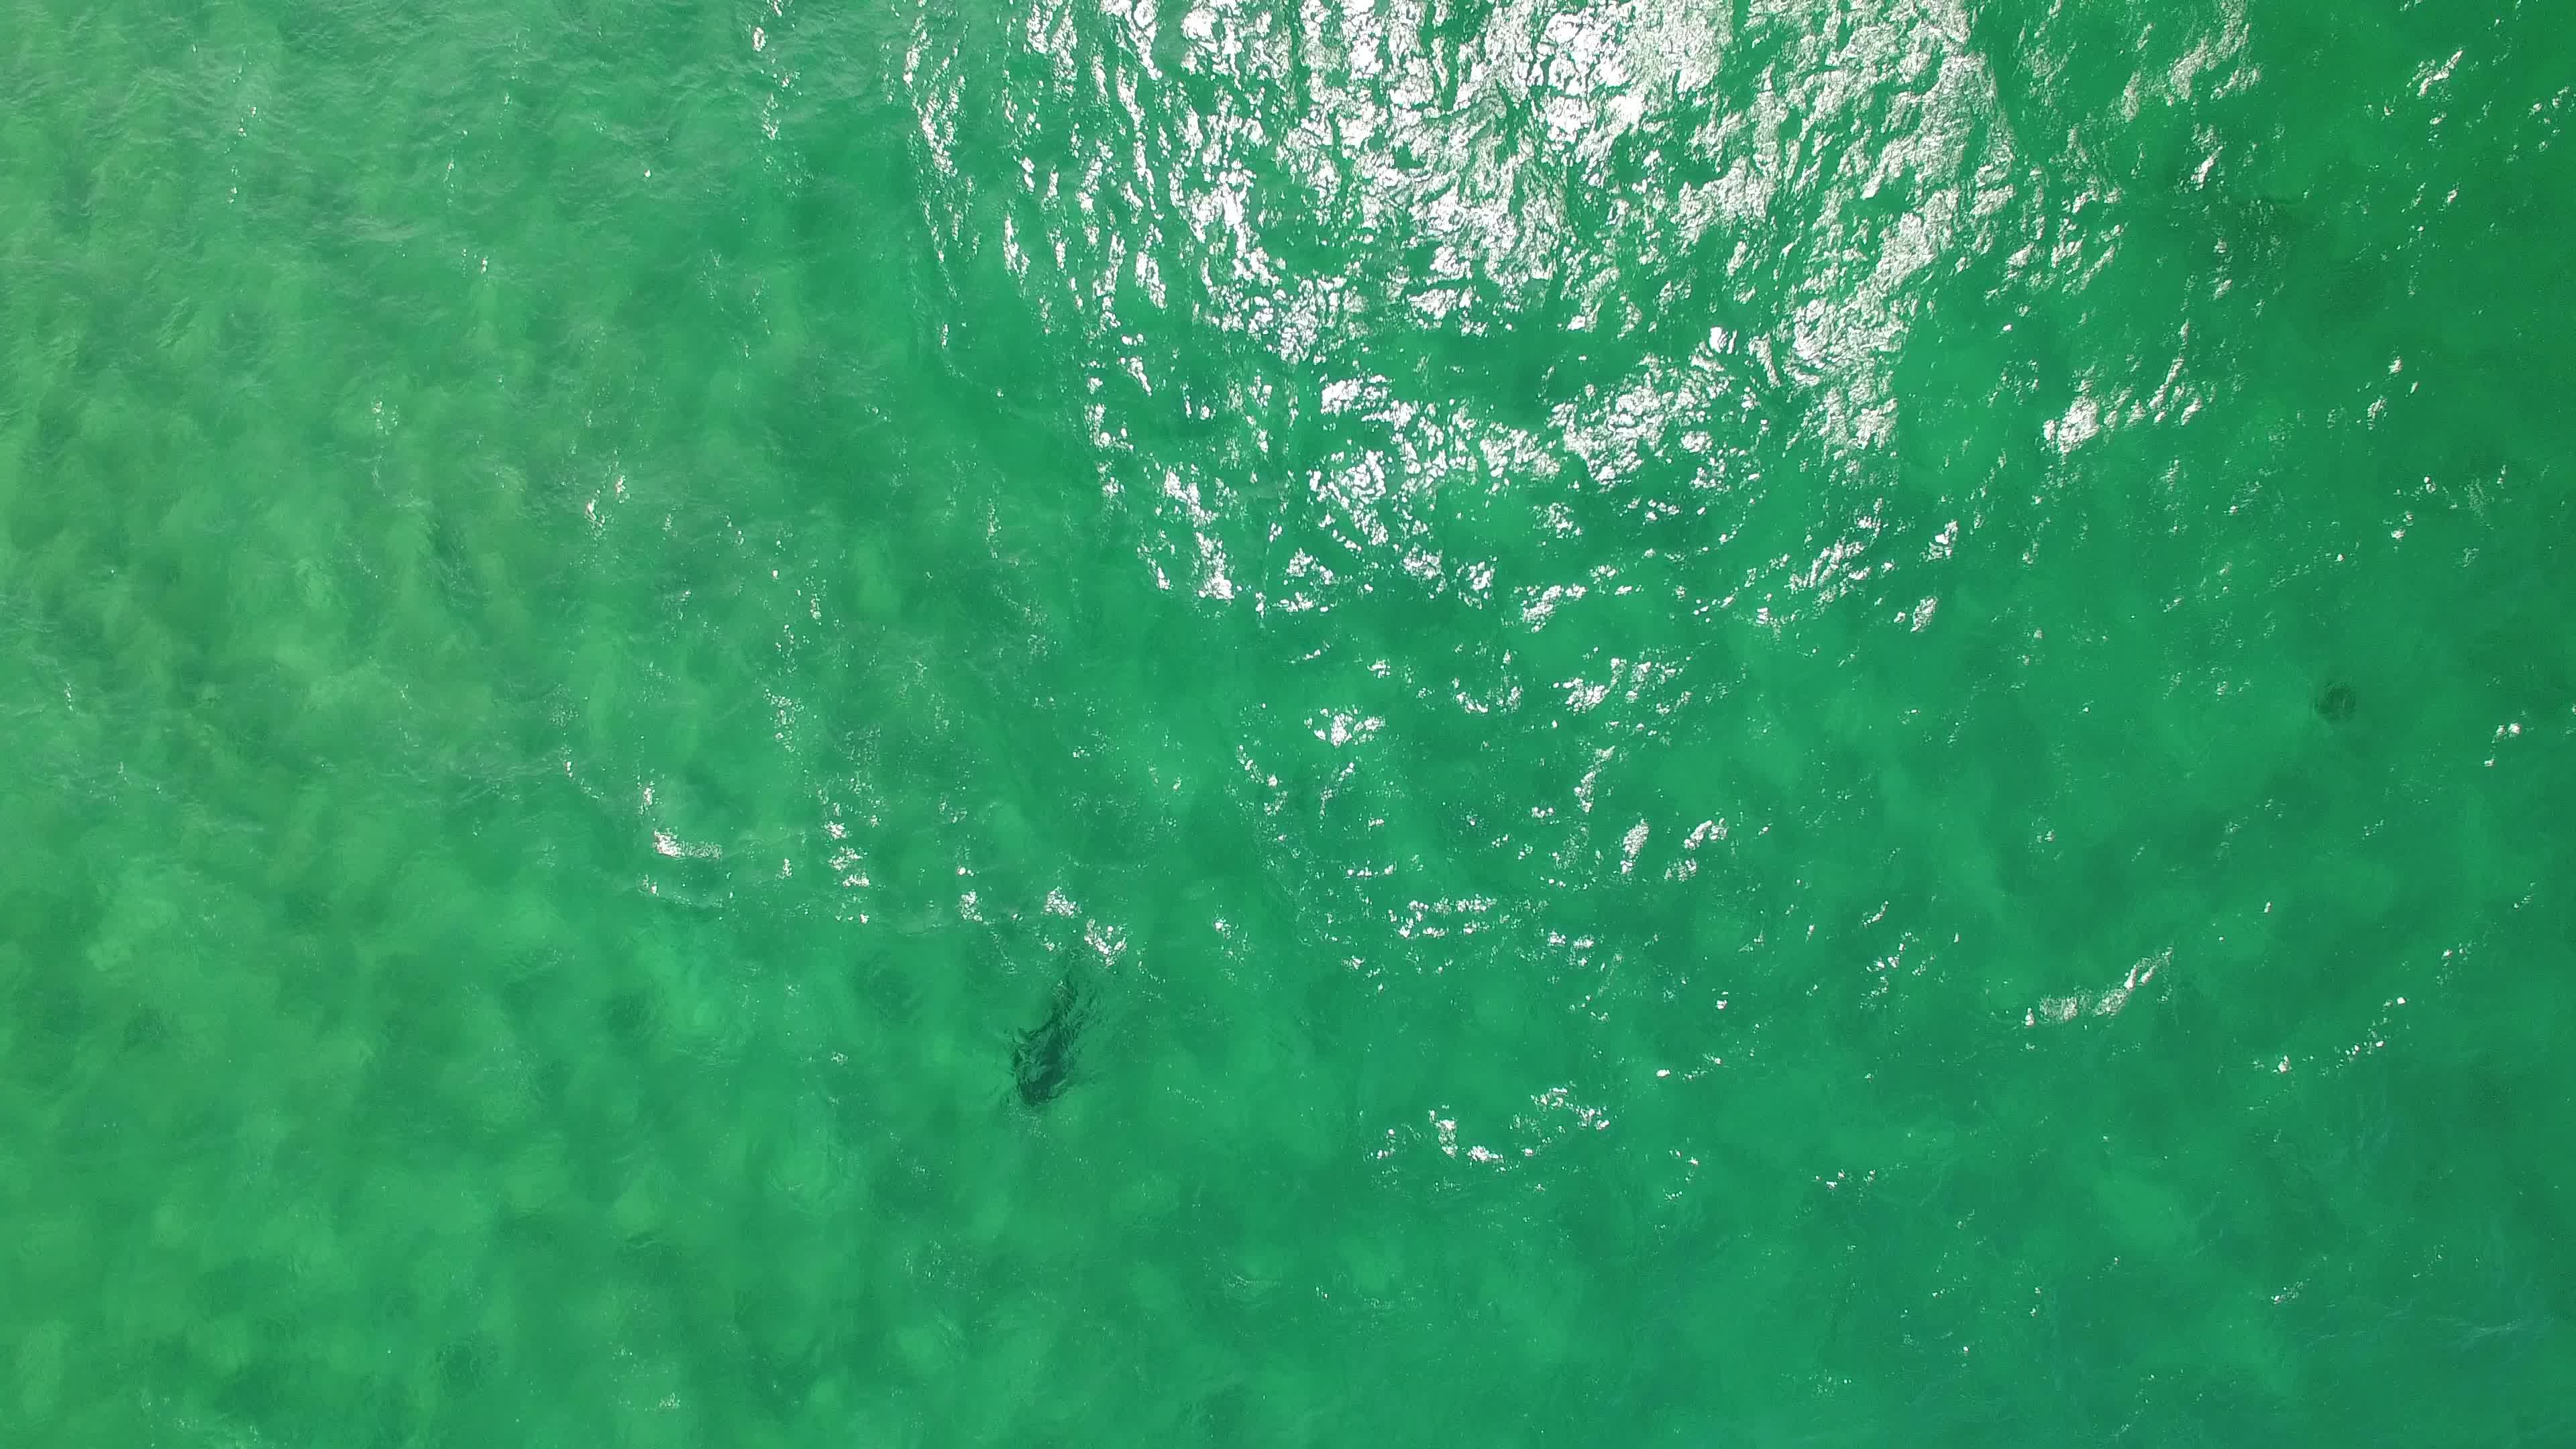shark: (1000, 975, 1113, 1120)
